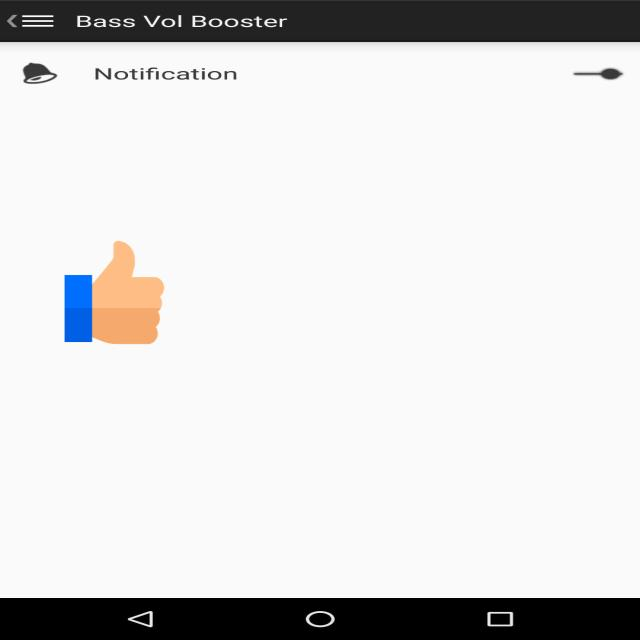privacy zuckering: (65, 238, 164, 347)
